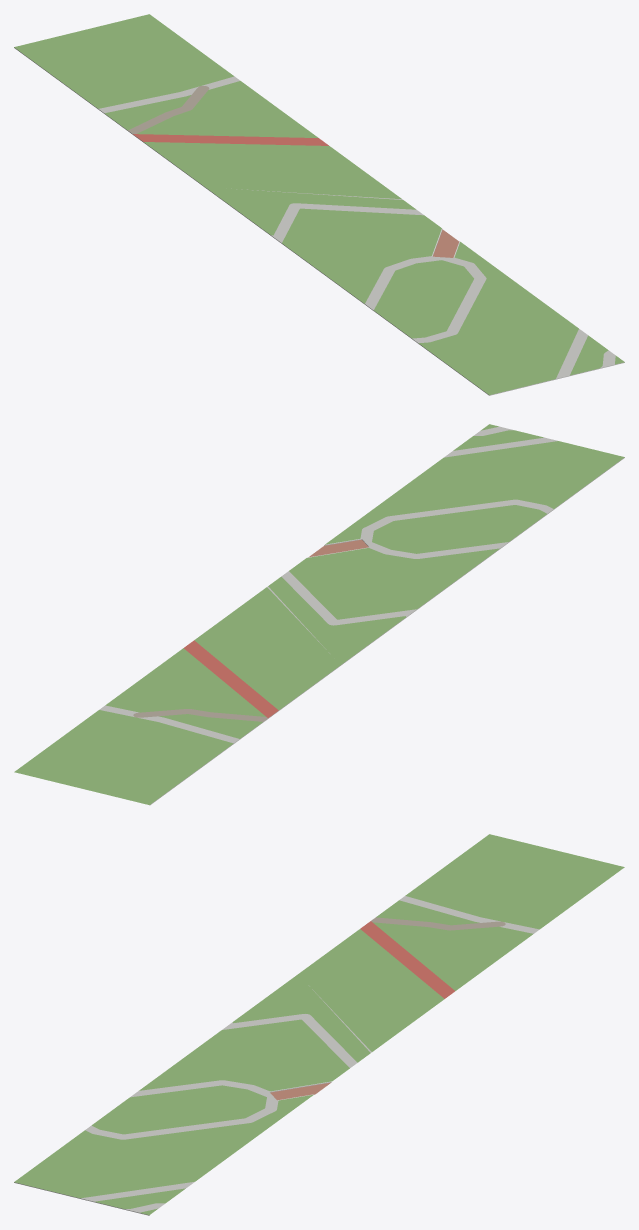
The model's file is ground_3_13.glb.
The picture shows the model from 3 angles, top to bottom: view 1: azimuth 30°, elevation 25°; view 2: azimuth 150°, elevation 25°; view 3: azimuth 330°, elevation 25°; orthographic projection.
Parts seen in each view (by area): view 1: ground_3_13; view 2: ground_3_13; view 3: ground_3_13.
Boxes of the visible parts, left/top/right/bottom form: ground_3_13: left=14, top=14, right=624, bottom=395; ground_3_13: left=14, top=424, right=624, bottom=805; ground_3_13: left=14, top=834, right=624, bottom=1215.
Size of the model in its own units: 26 by 0.12 by 158.
